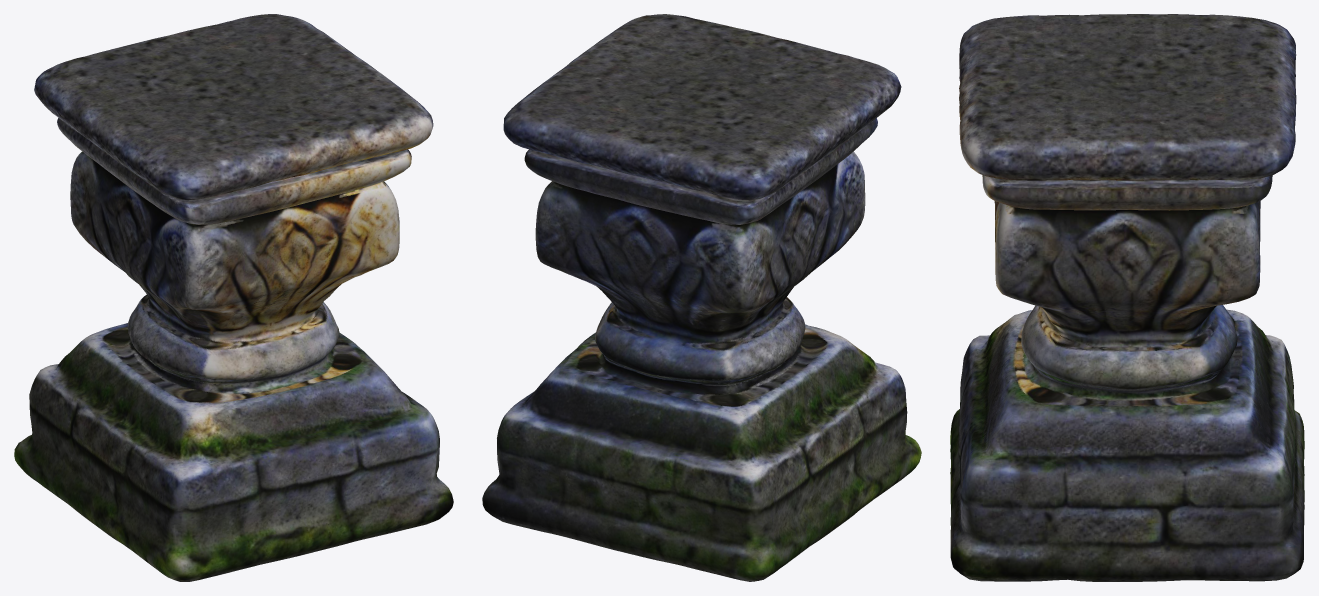
Rendered from Pedestal 1.fbx.
The picture shows the model from 3 angles, left to right: view 1: azimuth 30°, elevation 25°; view 2: azimuth 150°, elevation 25°; view 3: azimuth 270°, elevation 25°; orthographic projection. The views are drawn at different scales.
Parts seen in each view (by area): view 1: mesh; view 2: mesh; view 3: mesh.
Boxes of the visible parts, x1,y1,x2,y2 form: mesh: (14, 14, 453, 581); mesh: (482, 14, 921, 581); mesh: (950, 14, 1304, 581).
Bounding box in the file's own units: 72.63 × 99.95 × 72.91.
